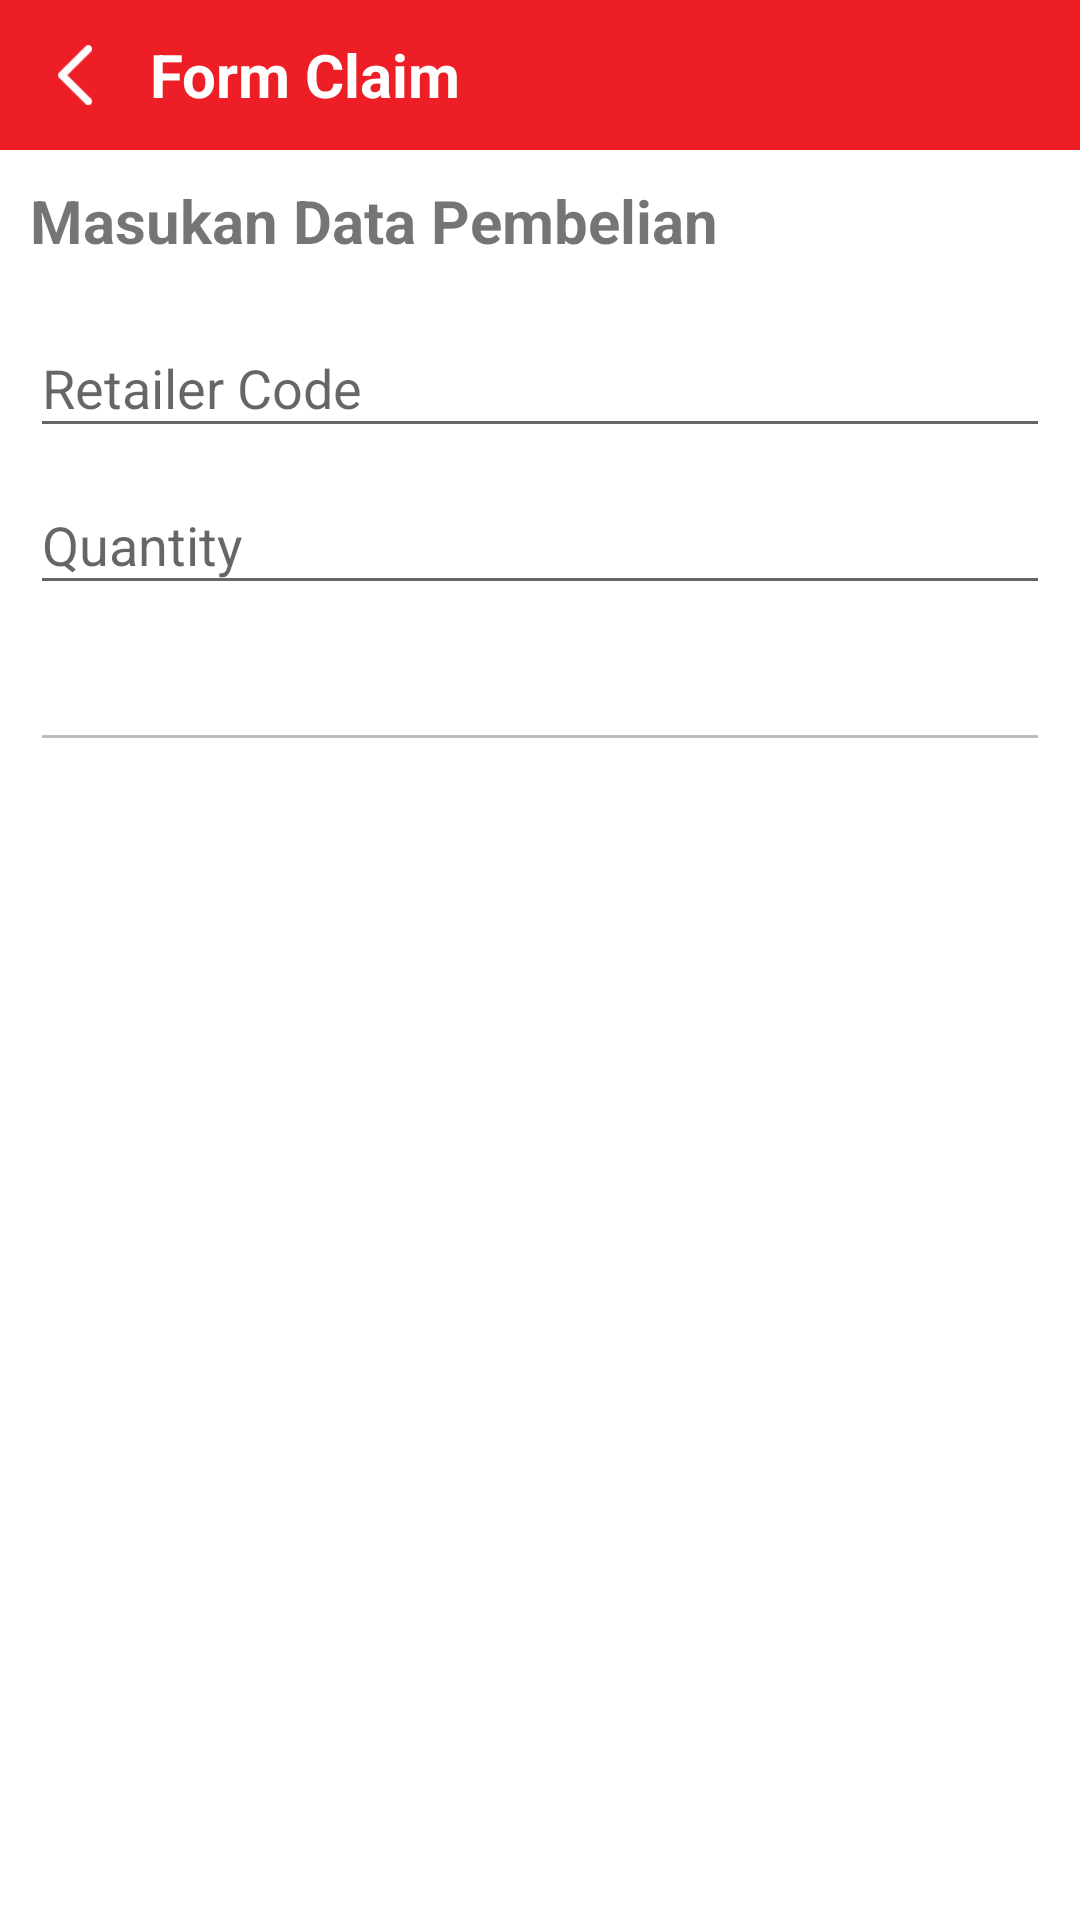

Point at icon controls on the screen. Image size 1080px×1920px, points as point (x, y).
back: point (75, 75)
